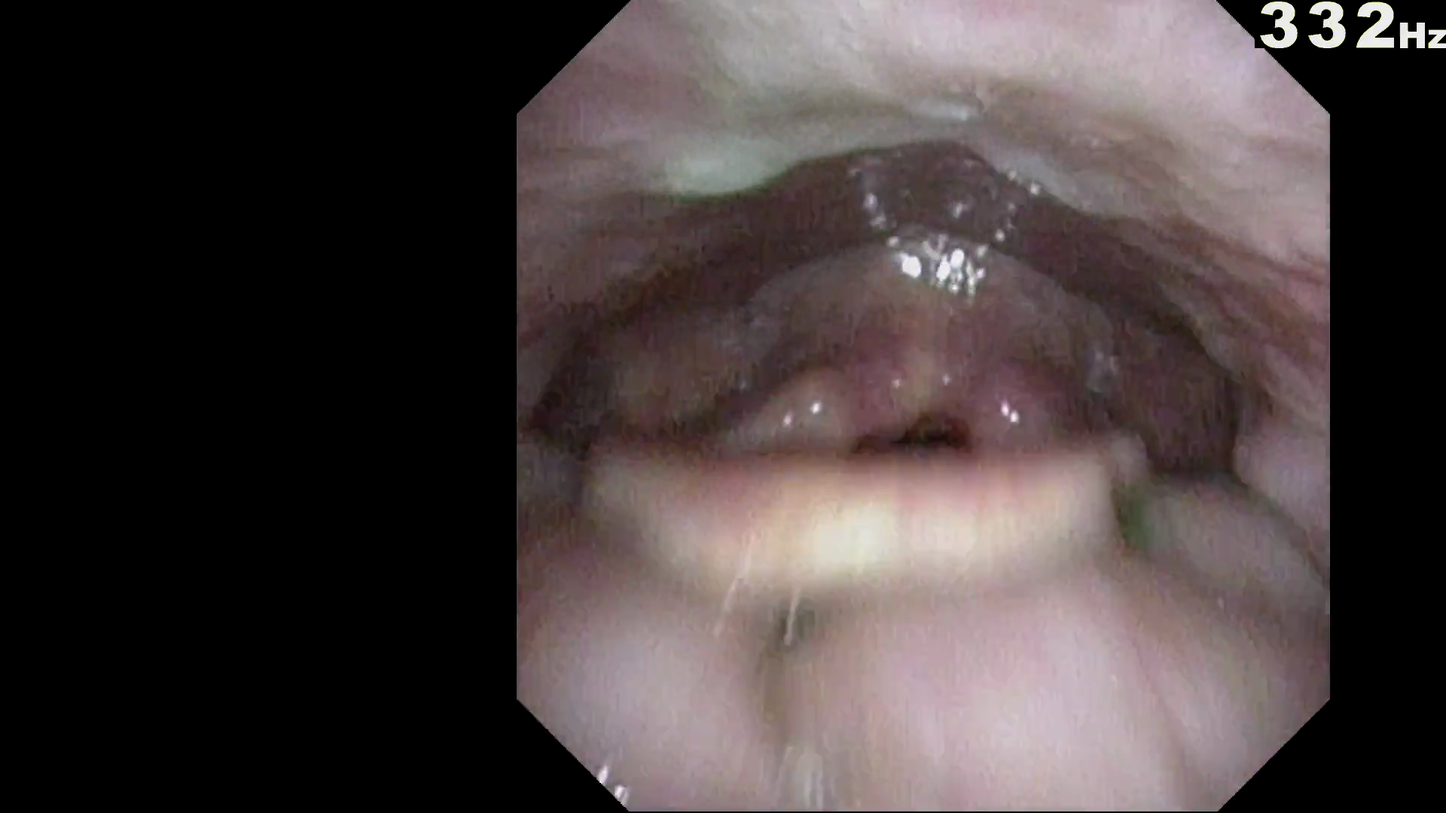epiglottis: (601, 379, 1213, 539)
